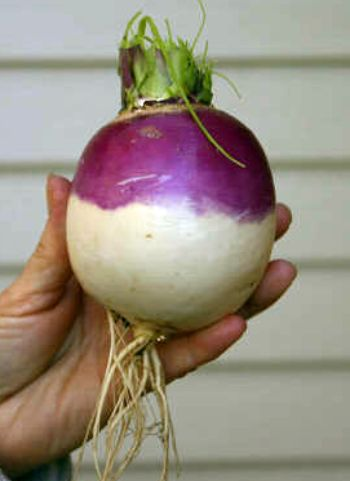turnip: (66, 103, 273, 336)
